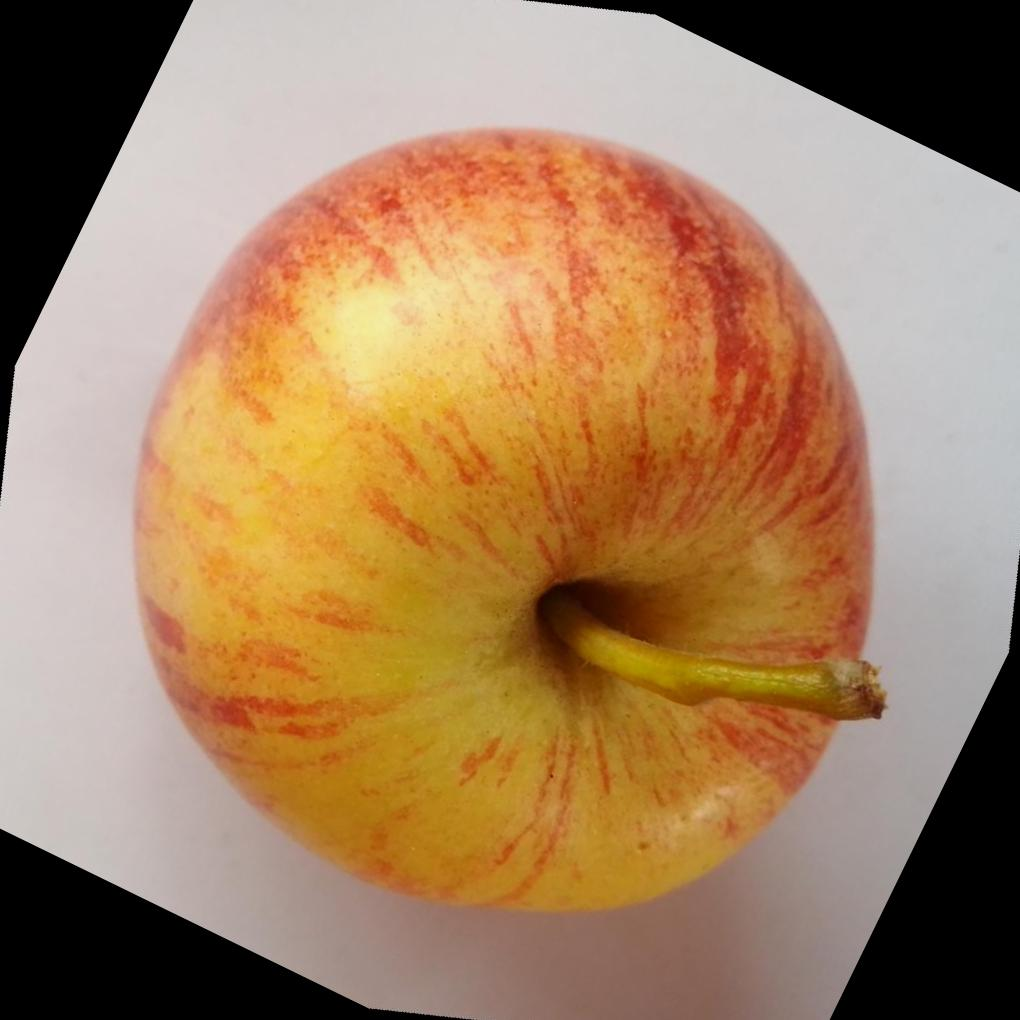FreshGuava: (131, 123, 888, 913)
